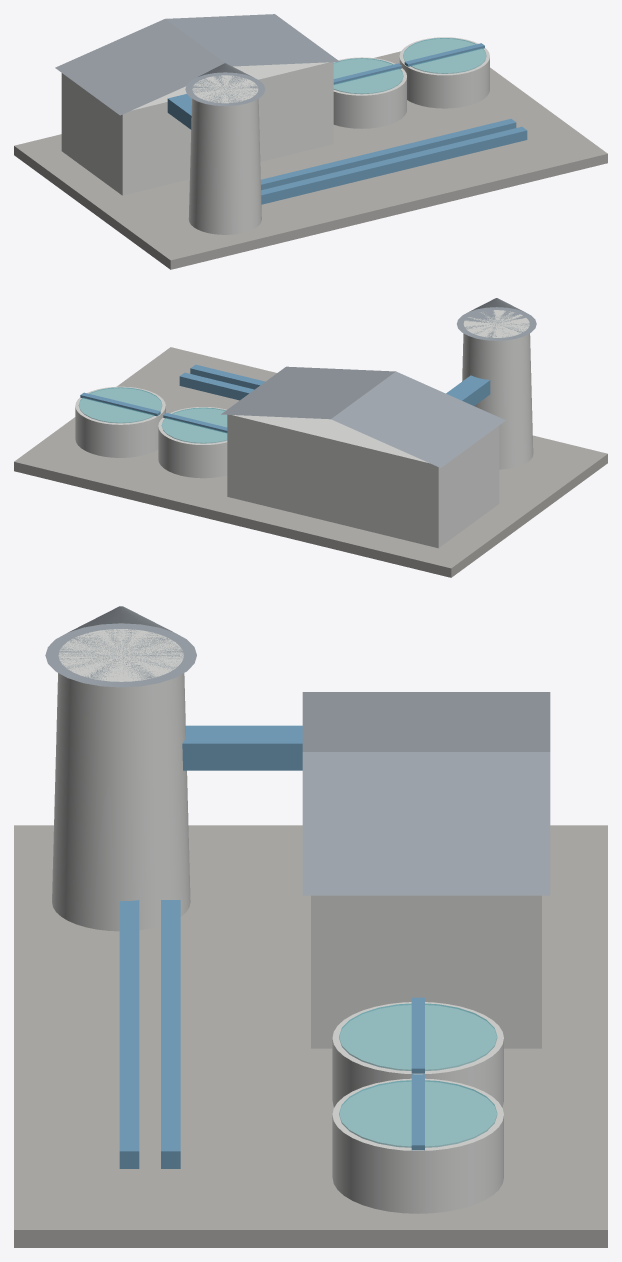
The model's file is lm_69_nha_may_nuoc_dankia_suoi_vang.glb.
3 views of the same model, one above another, from view 1: azimuth 30°, elevation 25°; view 2: azimuth 150°, elevation 25°; view 3: azimuth 270°, elevation 25° (orthographic). The views are drawn at different scales.
Visible parts, largest first — view 1: lm_69_nha_may_nuoc_dankia_suoi_vang; view 2: lm_69_nha_may_nuoc_dankia_suoi_vang; view 3: lm_69_nha_may_nuoc_dankia_suoi_vang.
Part boxes in pixels (x1,y1,x2,y2): lm_69_nha_may_nuoc_dankia_suoi_vang: [14, 14, 607, 269]; lm_69_nha_may_nuoc_dankia_suoi_vang: [14, 298, 607, 577]; lm_69_nha_may_nuoc_dankia_suoi_vang: [14, 606, 607, 1247].
Size of the model in its own units: 58 by 20.9 by 36.
